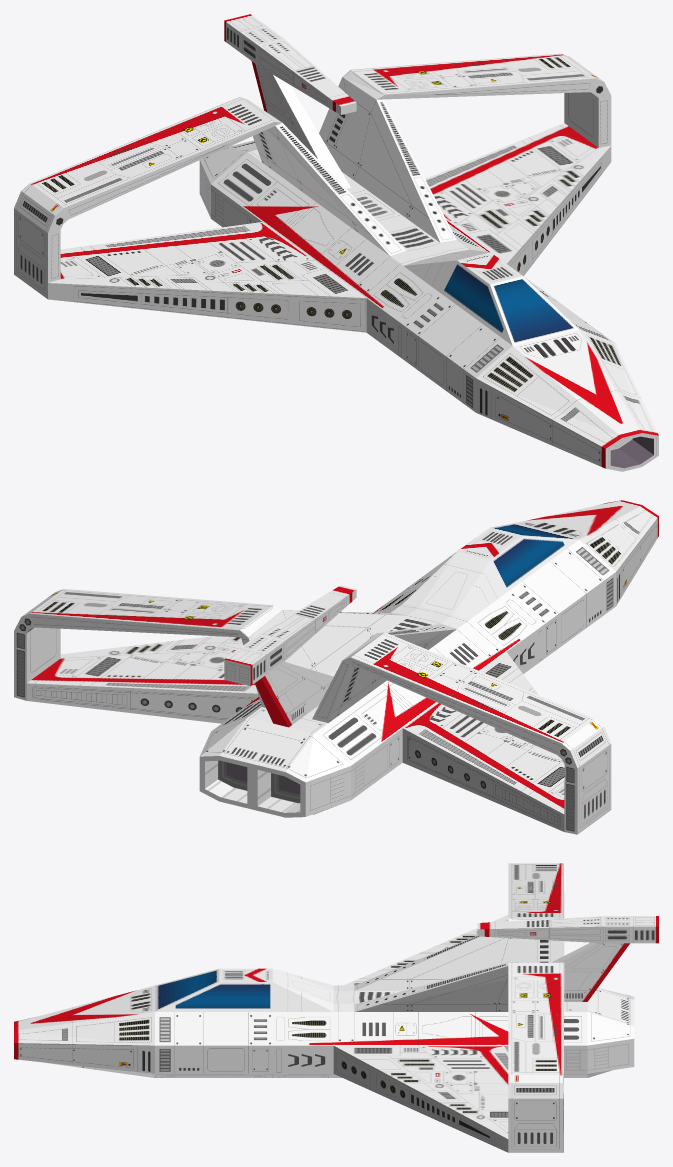
3 renders of one model, top to bottom at view 1: azimuth 30°, elevation 25°; view 2: azimuth 150°, elevation 25°; view 3: azimuth 270°, elevation 25°, orthographic. The views are drawn at different scales.
Visible parts, largest first — view 1: AF_SS04; view 2: AF_SS04; view 3: AF_SS04.
Boxes of the visible parts, x1,y1,x2,y2 form: AF_SS04: (14,14,658,471); AF_SS04: (14,500,658,834); AF_SS04: (14,863,658,1152).
Bounding box in the file's own units: 1004 × 299 × 1220.
1 material, 1 textured.
